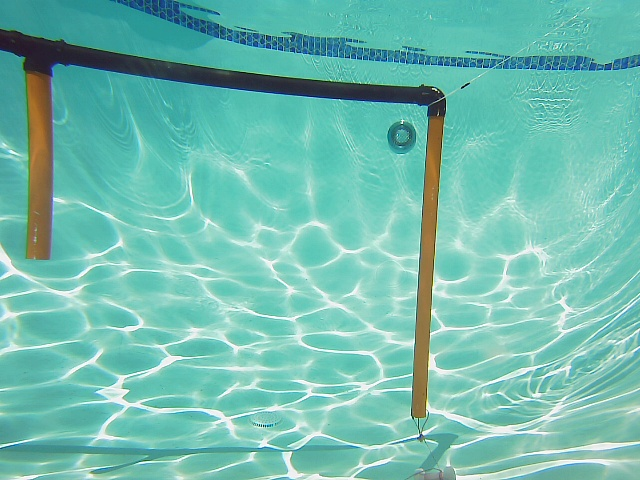Gate: (408, 111, 448, 422), (22, 67, 54, 267)
